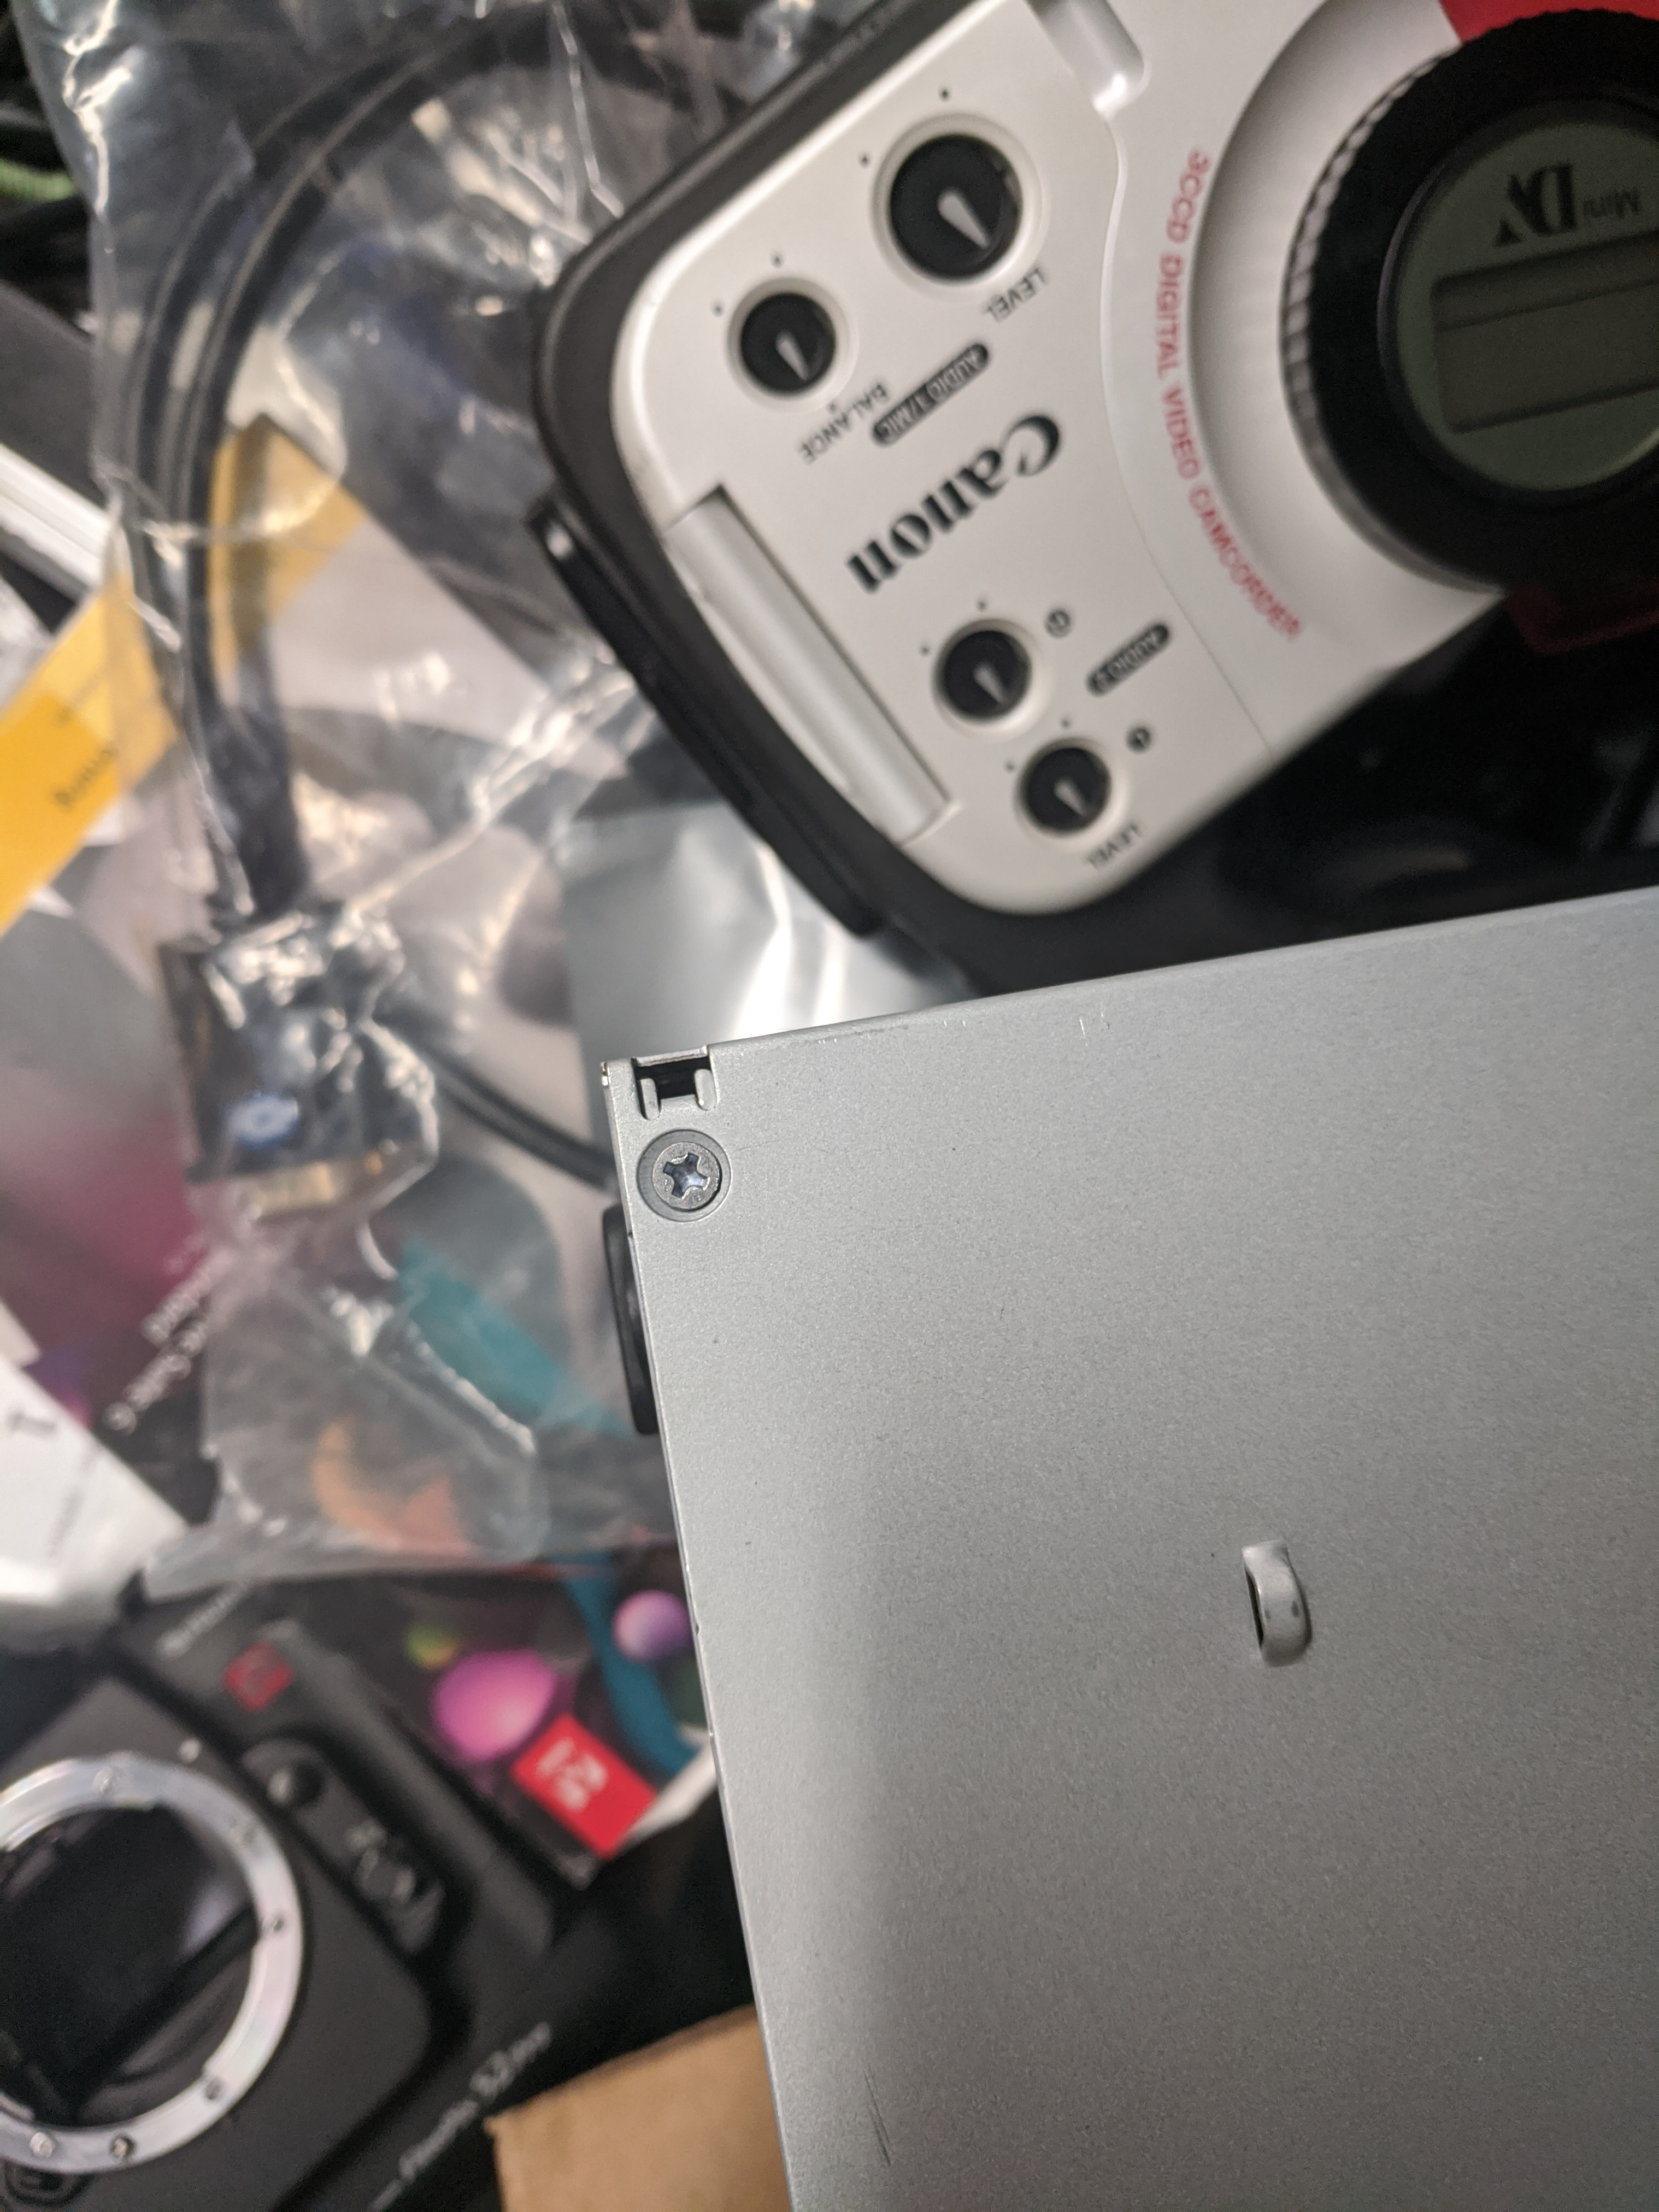cross_recessed_screw: (624, 1113, 735, 1216)
